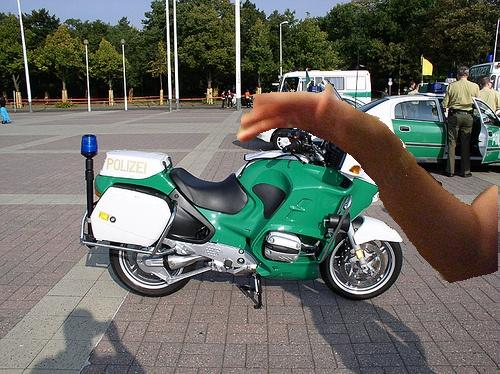tampered: (237, 84, 498, 283)
